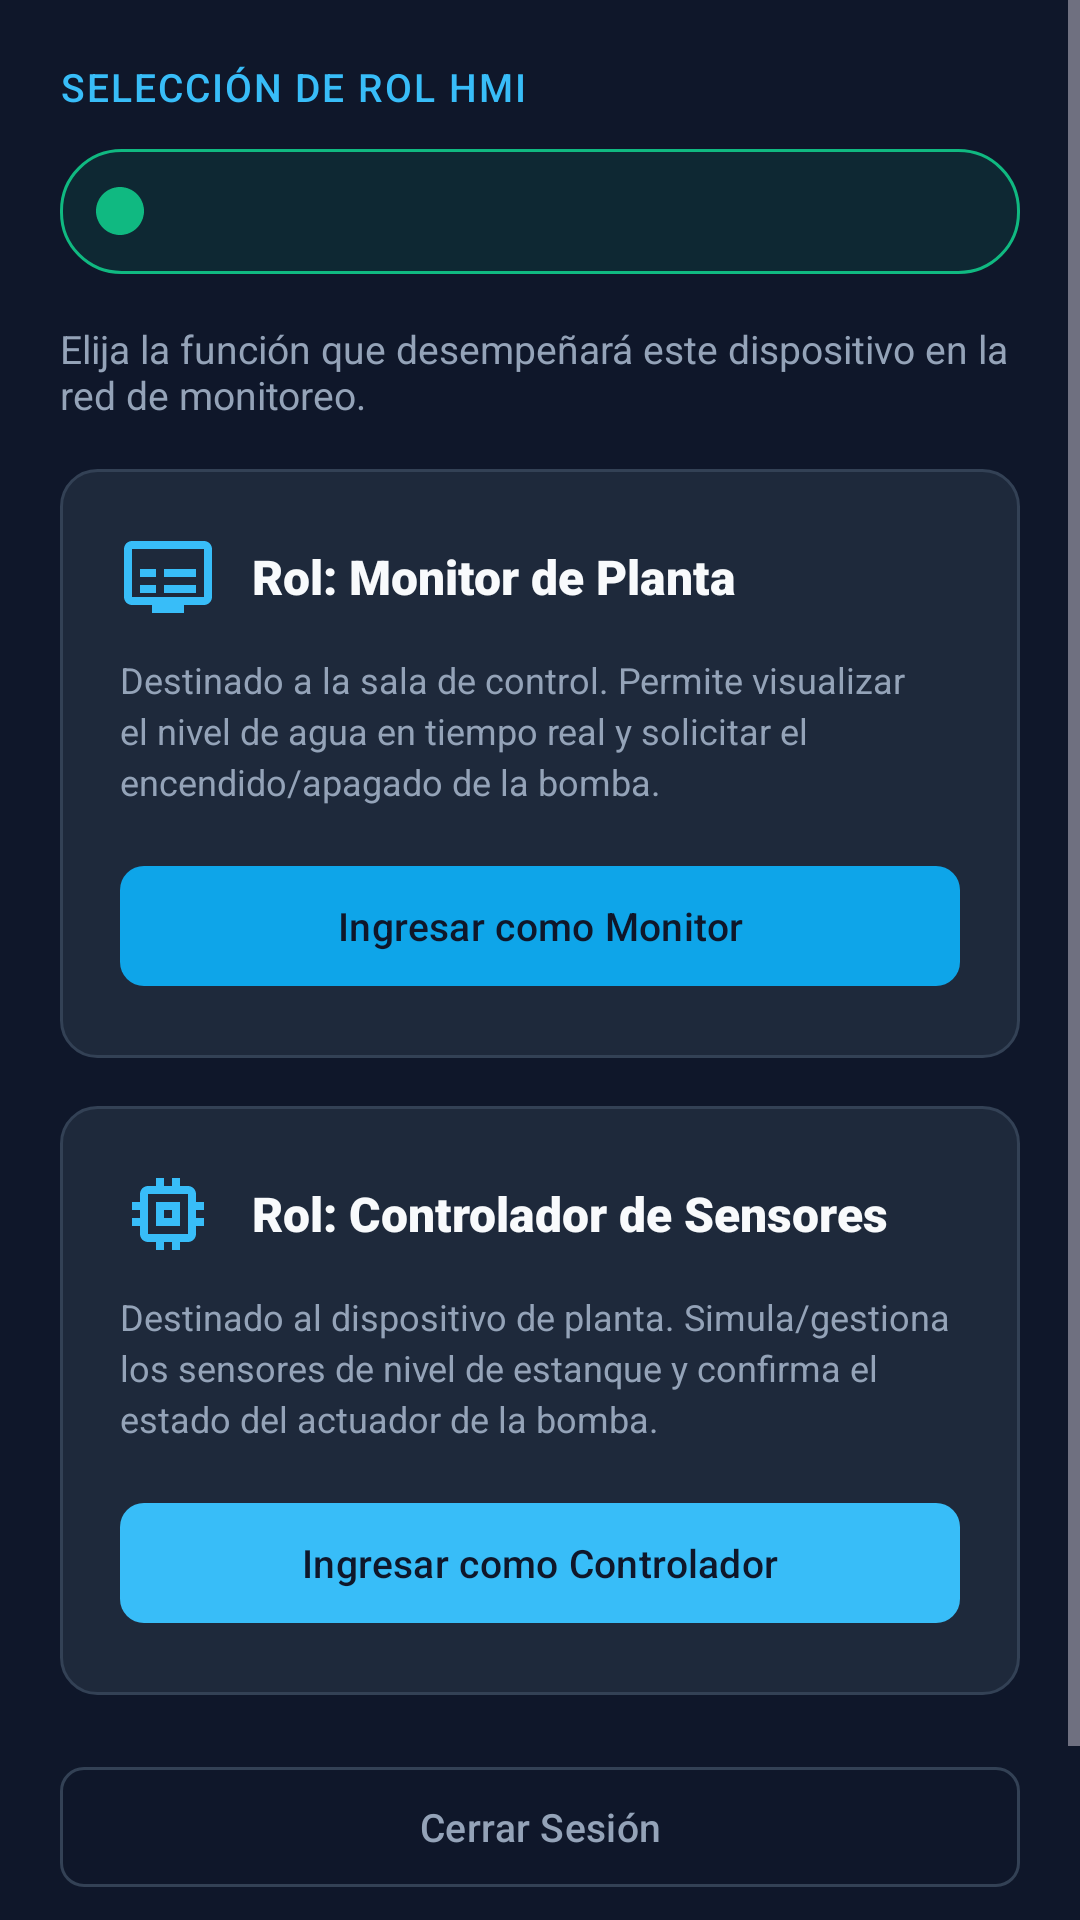

Icon click points for this 1080 × 1920 phone screenshot, format [x,y]:
cpu simulator: [168,1214]
dashboard monitor: [168,577]
